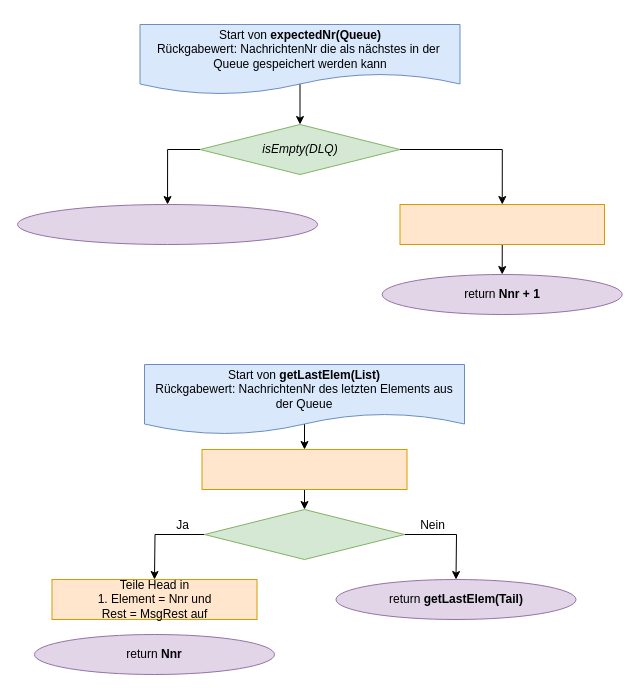
The diagram is 640 pixels wide and 692 high, and some of its shapes have lost their labels. Here are the shapes that lost their labels. From the top down, the centre of each, then its label:
At [167,224]: "return 1".
At [501,224]: "Nnr = getLastElem(Queue)".
At [304,469]: "Teile List in 1. Element = Head und Rest = Tail auf".
At [304,534]: "isEmpty(Tail)".
